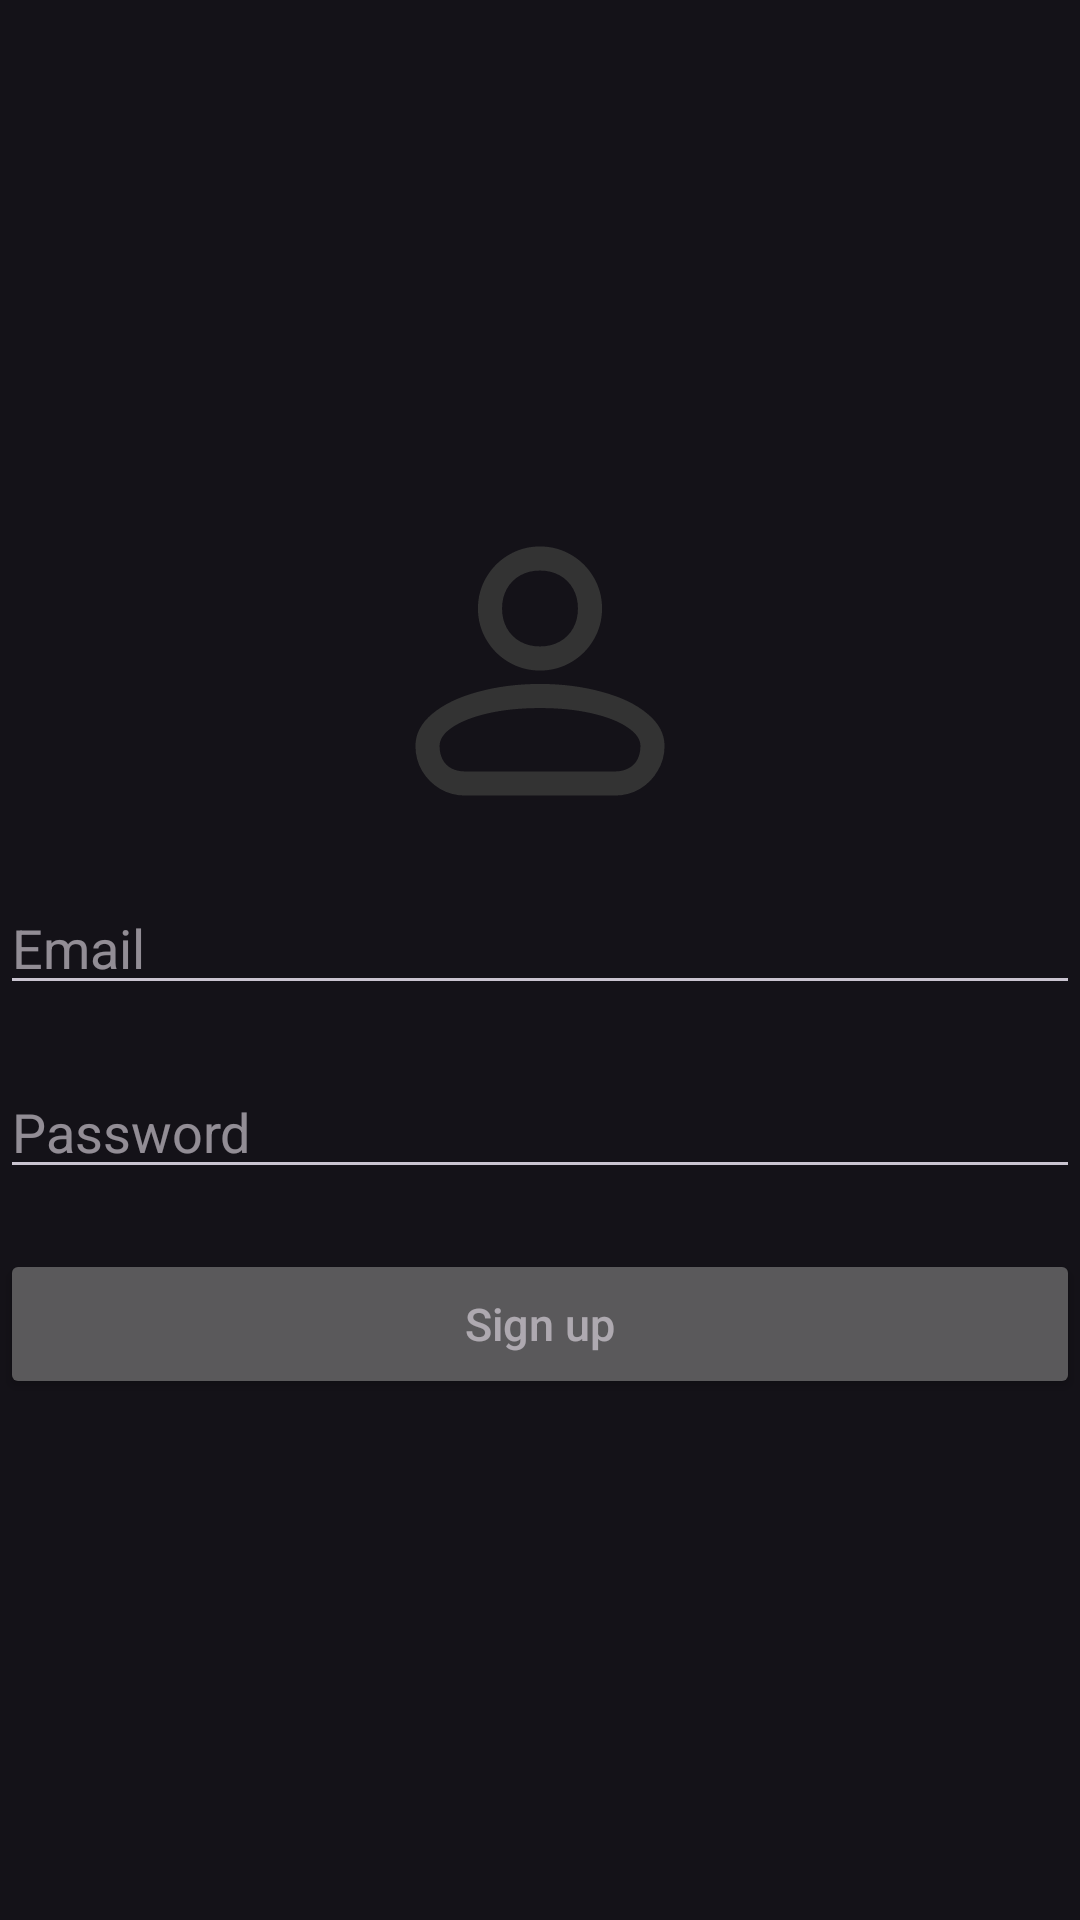

Point at icon controls on the screen. Image size 1080px×1920px, points as (x=x, y=y).
person: (x=540, y=671)
